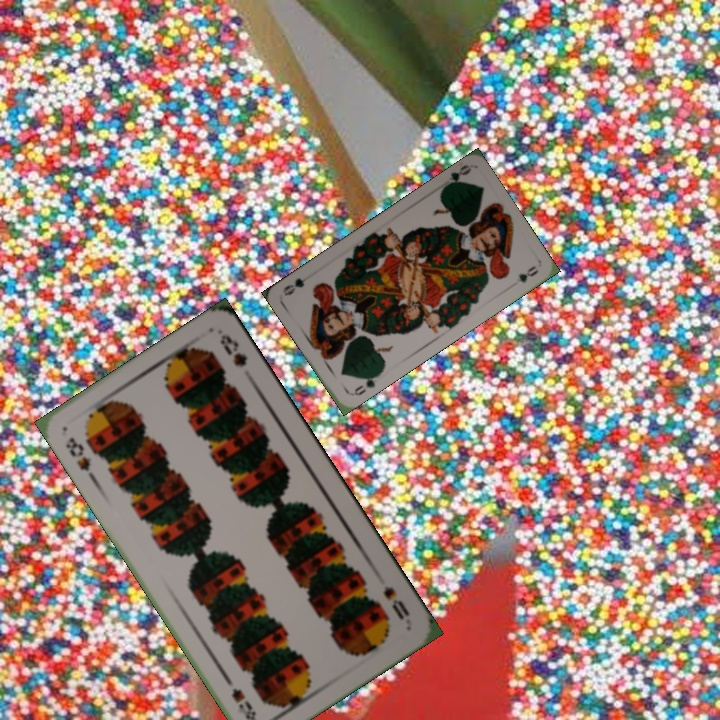GO: (438, 160, 473, 193), (347, 370, 382, 398)
S8: (61, 433, 99, 484), (379, 582, 413, 623)
